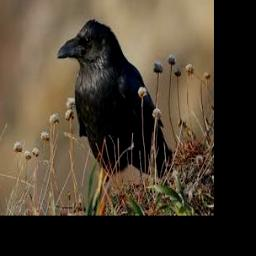Crow: (57, 18, 173, 180)
